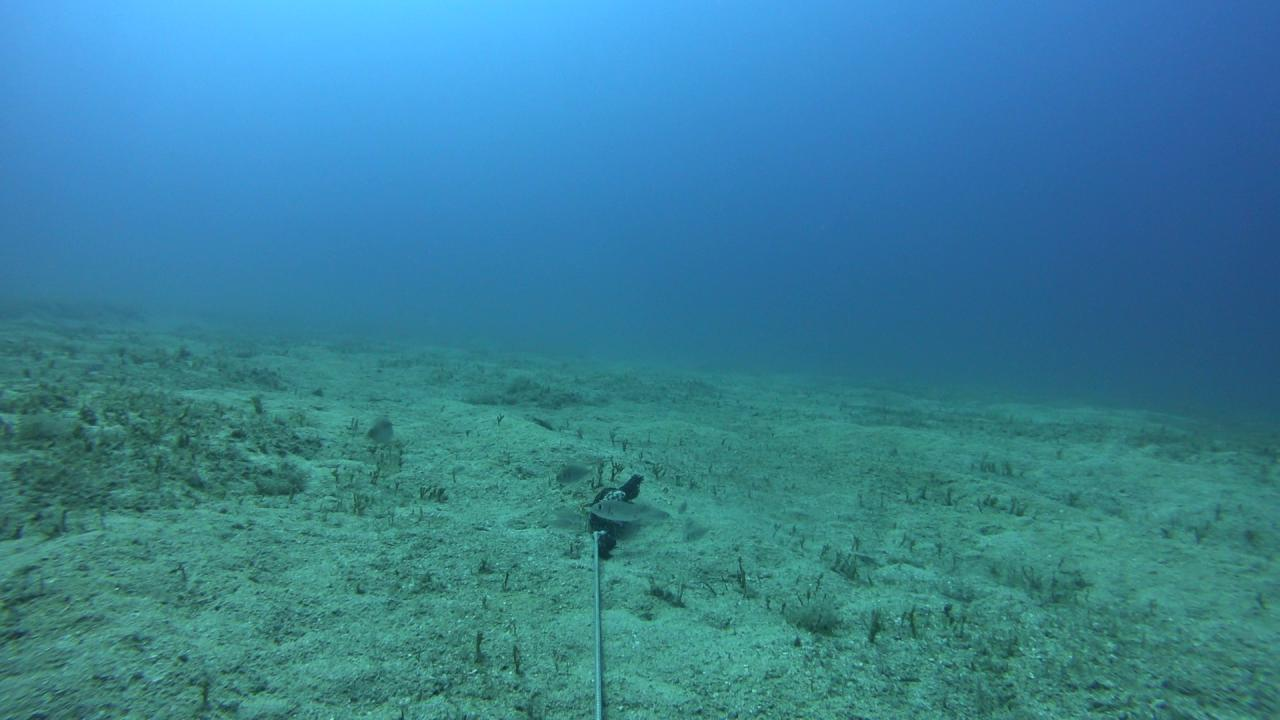pagellus: (590, 498, 644, 524), (554, 461, 602, 485), (542, 507, 590, 523), (641, 507, 676, 523), (686, 526, 716, 542)
